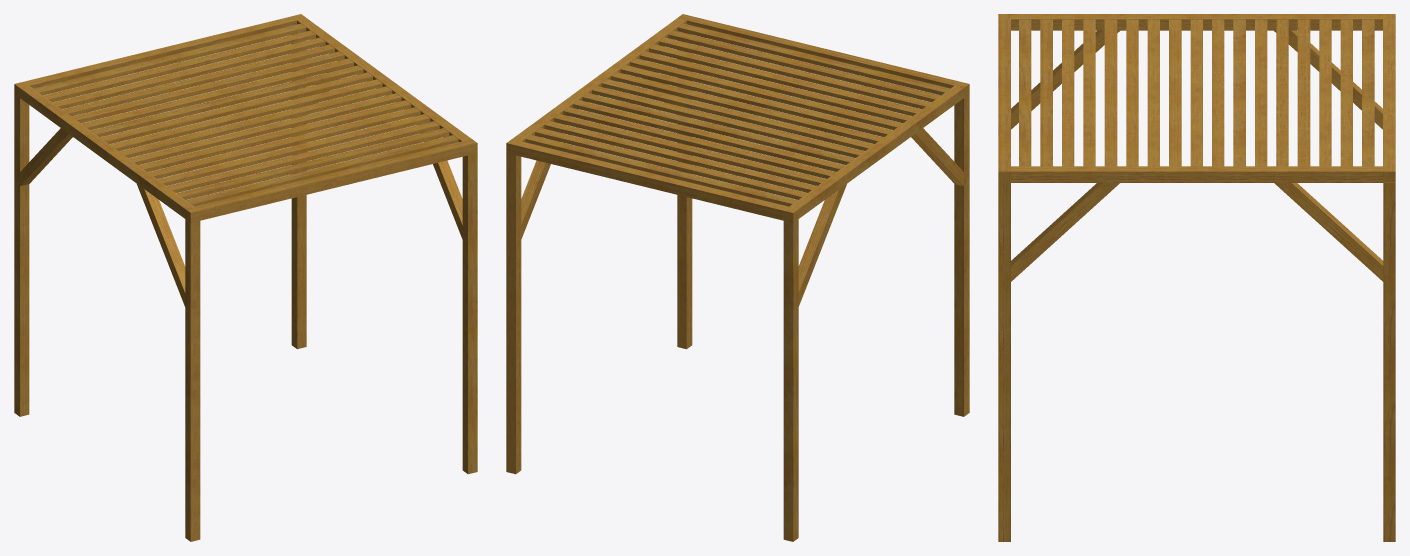
The model's file is pergola.glb.
The picture shows the model from 3 angles, left to right: view 1: azimuth 30°, elevation 25°; view 2: azimuth 150°, elevation 25°; view 3: azimuth 270°, elevation 25°; orthographic projection. The views are drawn at different scales.
Bounding box in the file's own units: 240 × 263 × 256.
1 material, 1 textured.
